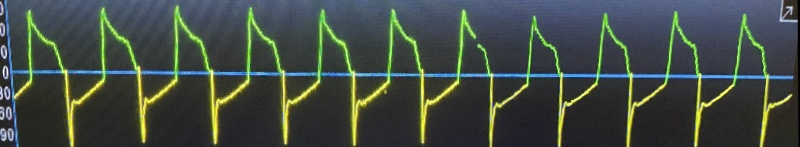peepi: (6, 1, 780, 147)
